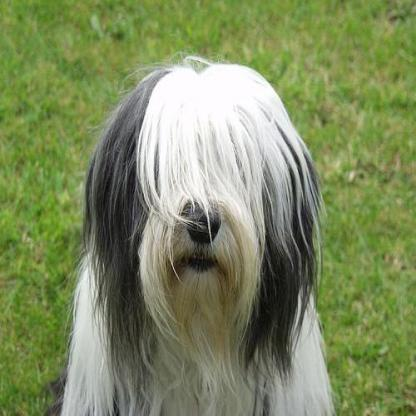Old_English_sheepdog: (58, 59, 336, 414)
